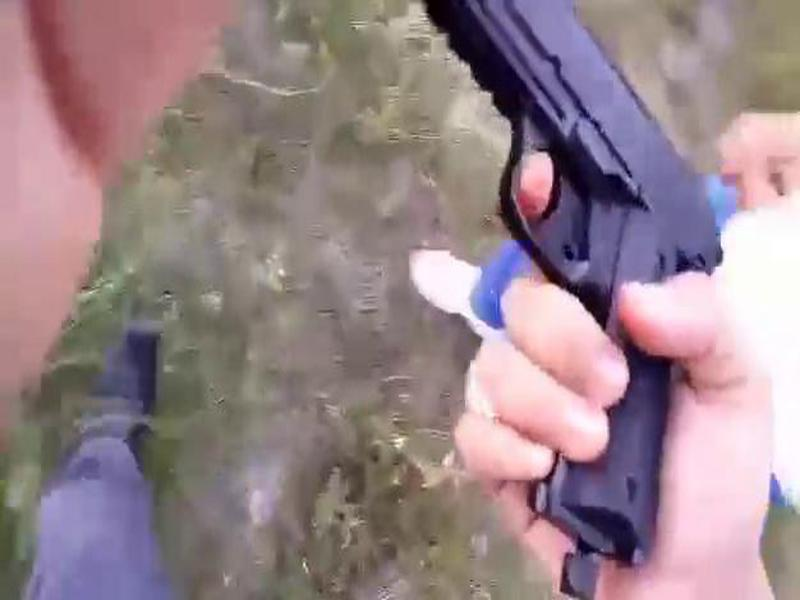Pistola: (405, 1, 741, 565)
